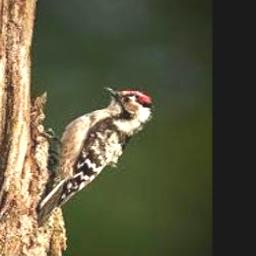Woodpecker: (39, 85, 154, 224)
